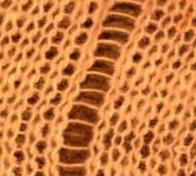slub: (57, 0, 149, 176)
